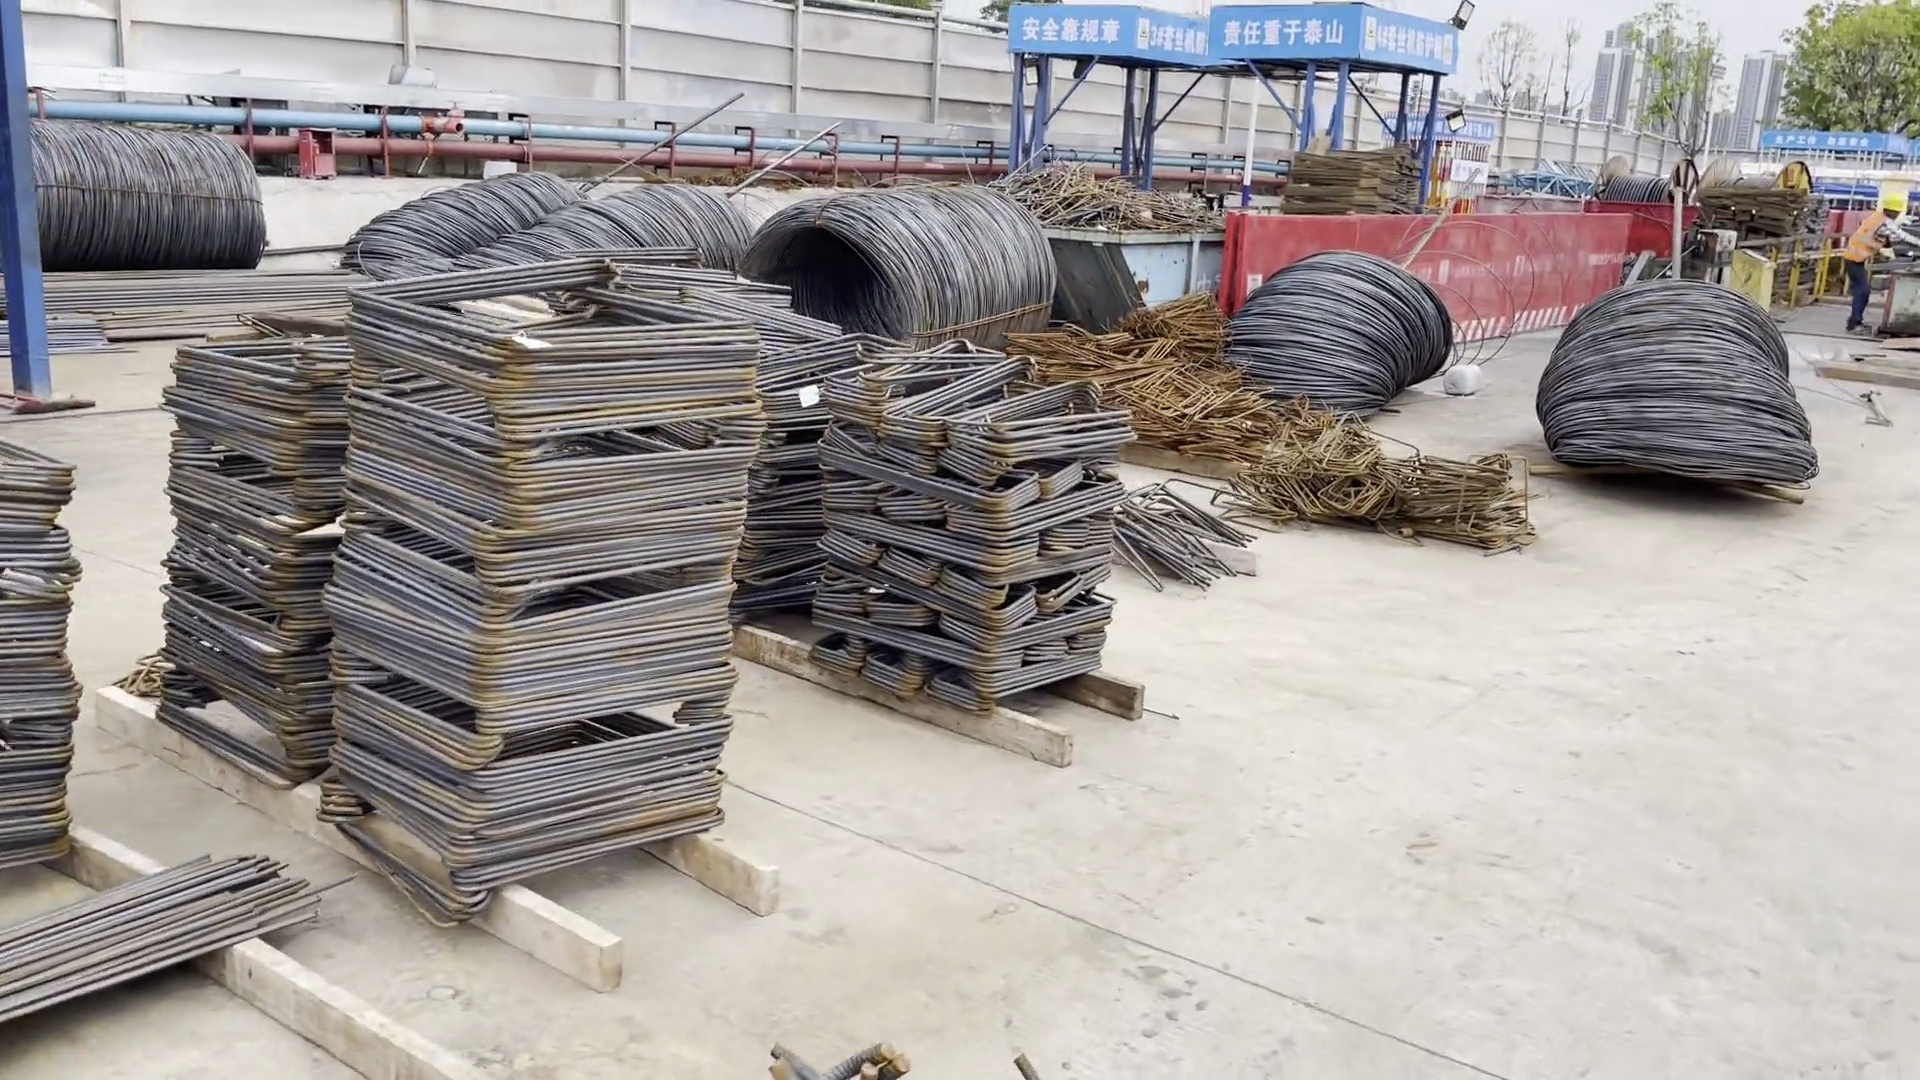ebox: (1718, 239, 1790, 299)
fence: (1229, 199, 1633, 342), (1573, 188, 1703, 269)
helmet: (1878, 190, 1907, 216)
hopper: (1029, 212, 1223, 318)
person: (1827, 177, 1920, 346)
rebar: (1, 855, 371, 1054), (41, 254, 363, 343), (757, 1032, 1107, 1080)
slogan: (990, 5, 1465, 97), (1752, 122, 1920, 171), (1376, 105, 1500, 153)
vest: (1836, 211, 1905, 287)
